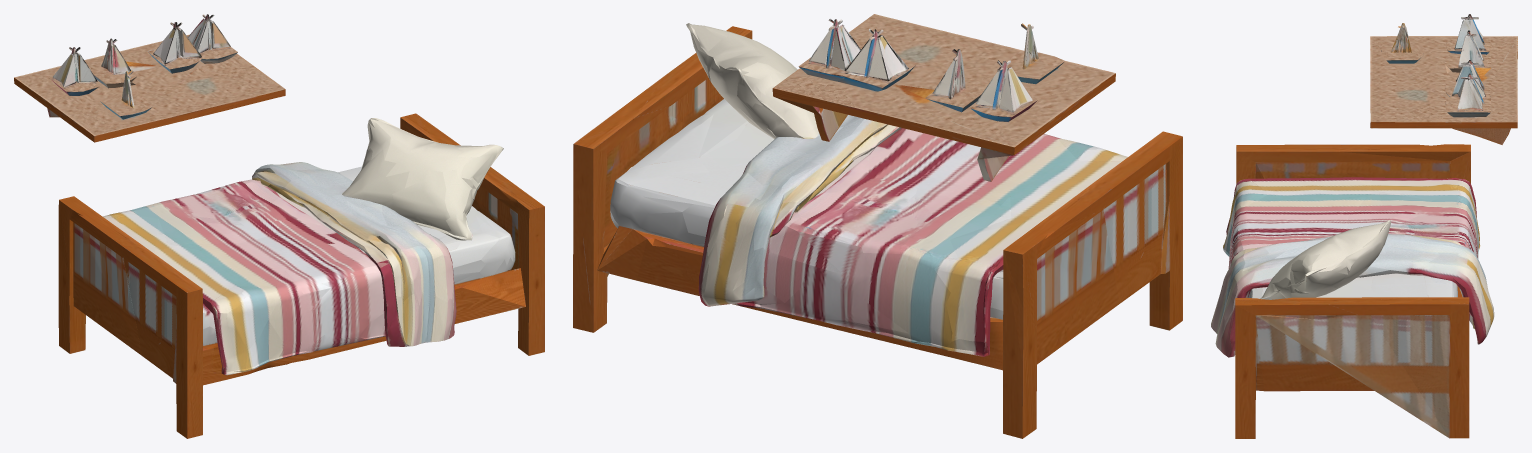
Rendered from Child_s_bed_and_shelf.glb.
3 renders of one model, left to right at view 1: azimuth 30°, elevation 25°; view 2: azimuth 150°, elevation 25°; view 3: azimuth 270°, elevation 25°, orthographic. The views are drawn at different scales.
Bounding box in the file's own units: 1.9 × 1.42 × 1.46.
Materials: 1 (1 with a texture image).
